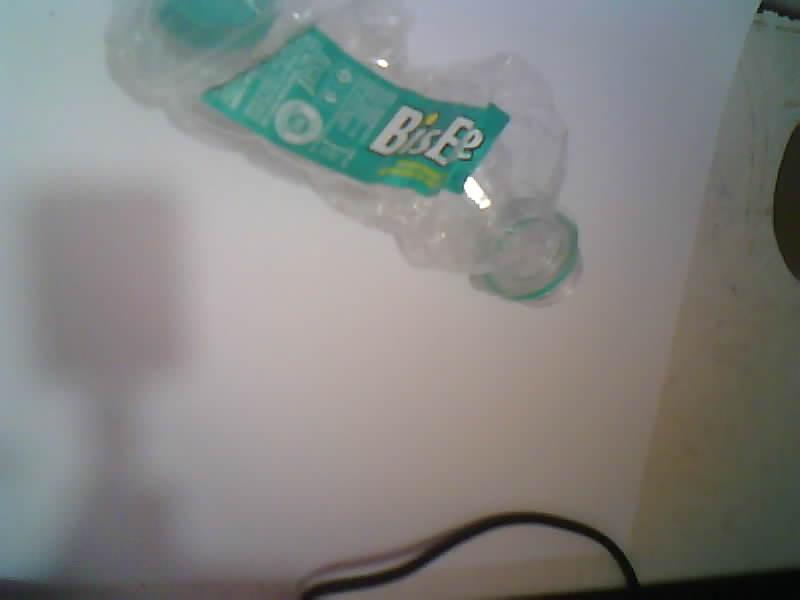non-biodegradable: (107, 0, 578, 299), (375, 58, 389, 68)
